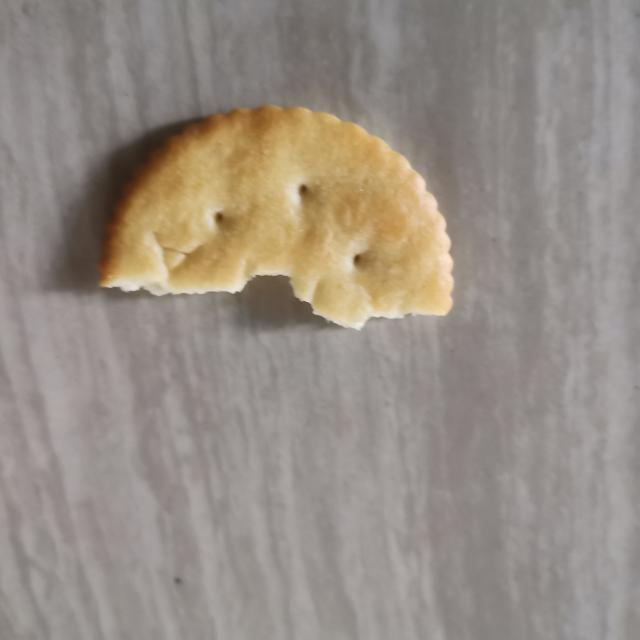Broken: (97, 103, 455, 331)
